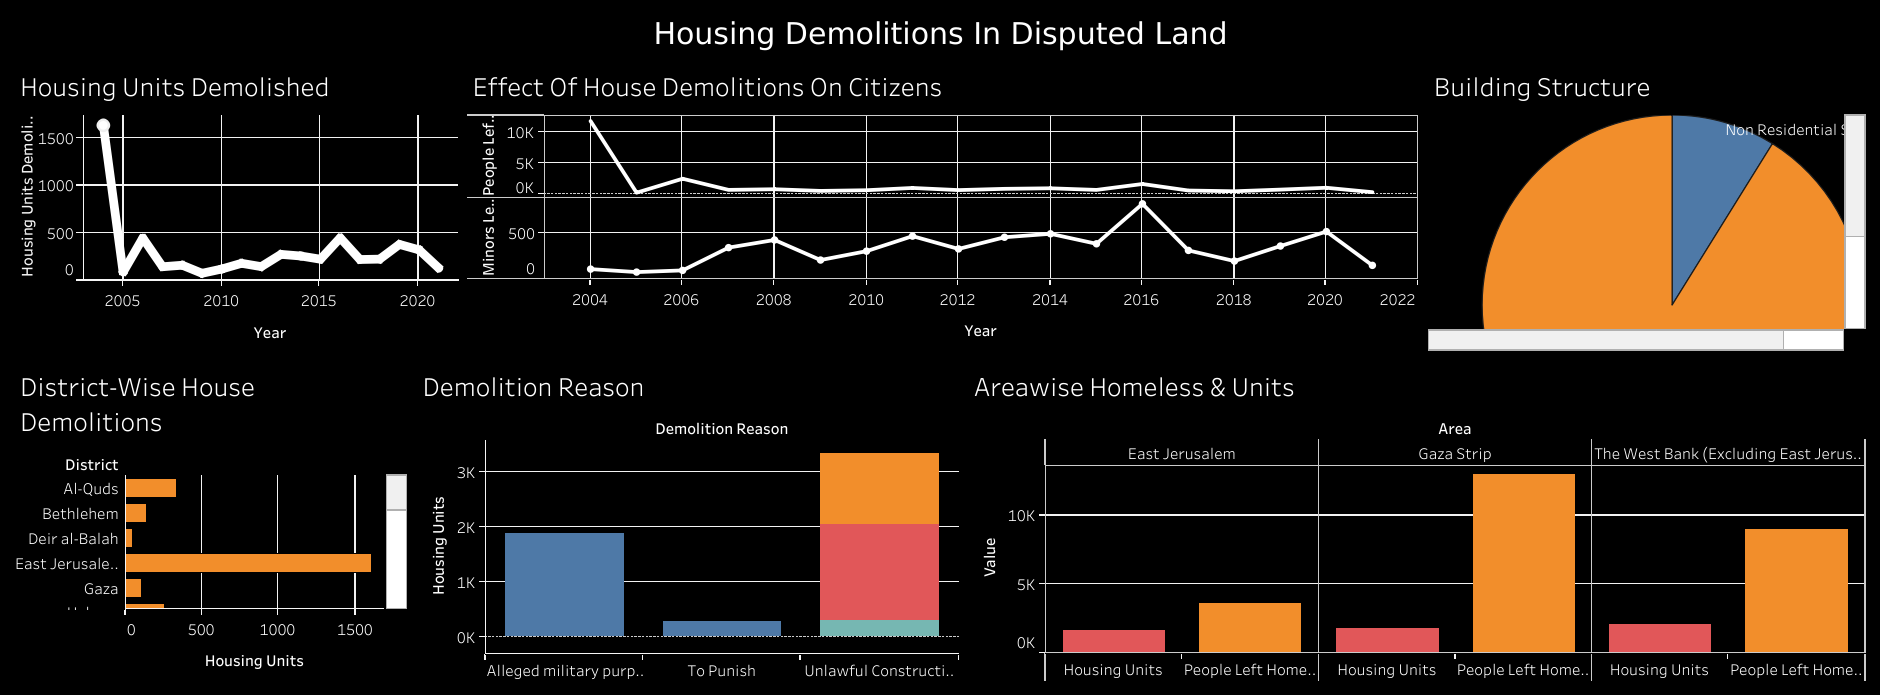

What the dashboard file says about the page in this screenshot:
{"tool":"tableau","page":{"name":"Dashboard 2","canvas":[1000,1000],"units":"permille","ordinal":1},"visuals":[{"type":"title","box":[4.8,9.3,990.3,44.1]},{"type":"worksheet","title":"Housing Units Demolished","mark":"Automatic","rows":["Housing Units"],"cols":["Year"],"box":[4.8,53.4,240.7,446]},{"type":"worksheet","title":"Effect On People","mark":"Automatic","rows":["People Left Homeless","Minors Left Homeless"],"cols":["Year"],"box":[245.5,53.4,511.3,446]},{"type":"worksheet","title":"Building Str","mark":"Pie","box":[756.8,53.4,238.4,446]},{"type":"worksheet","title":"District Wise House Demolitions","mark":"Automatic","rows":["District"],"cols":["Housing Units"],"box":[4.8,499.4,214.2,491.3]},{"type":"worksheet","title":"Demolition Reason","mark":"Automatic","rows":["Housing Units"],"cols":["Demolition Reason"],"box":[219.1,499.4,293.2,491.3]},{"type":"worksheet","title":"Areawise Homeless & Units","mark":"Automatic","cols":["Area"],"box":[512.3,499.4,482.9,491.3]}]}

Visuals, with their boxes on the dashboard's canvas, which has no fixed pixel size, in thousandths of its width and height (x1, y1, x2, y2). These are canvas units, not pixel positions in the 1880x695 screenshot, which may show the page scaled, cropped or inside an application window:
title: (x1=5, y1=9, x2=995, y2=53)
"Housing Units Demolished" worksheet: (x1=5, y1=53, x2=246, y2=499)
"Effect On People" worksheet: (x1=246, y1=53, x2=757, y2=499)
"Building Str" worksheet (Pie marks): (x1=757, y1=53, x2=995, y2=499)
"District Wise House Demolitions" worksheet: (x1=5, y1=499, x2=219, y2=991)
"Demolition Reason" worksheet: (x1=219, y1=499, x2=512, y2=991)
"Areawise Homeless & Units" worksheet: (x1=512, y1=499, x2=995, y2=991)
